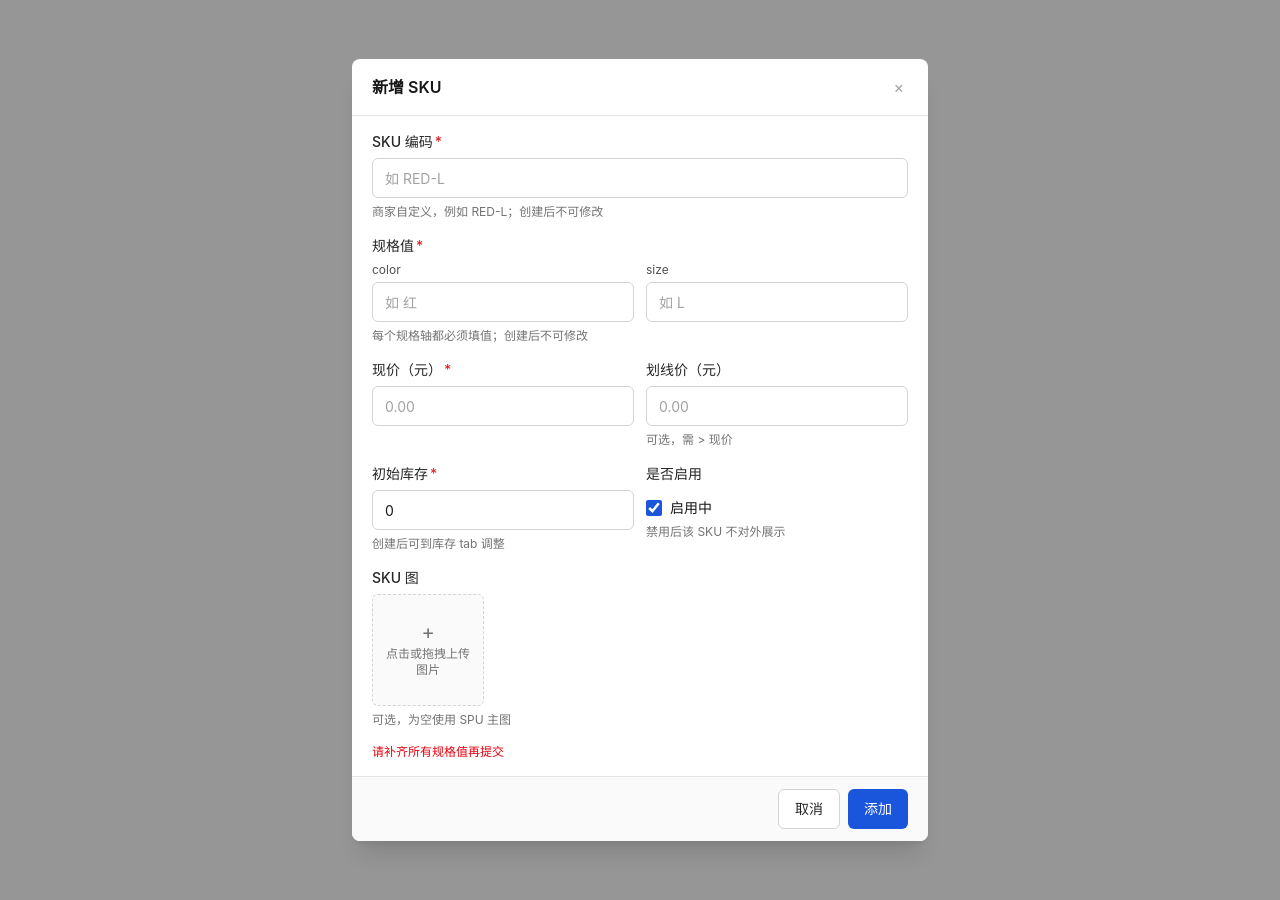
SKUFormModal - 新增 › sku_code 为空时无法提交
The width and height of the screenshot is (1280, 900).
点击"添加"按钮
Click the button "添加" at (878, 809), box left=848, top=789, right=908, bottom=829
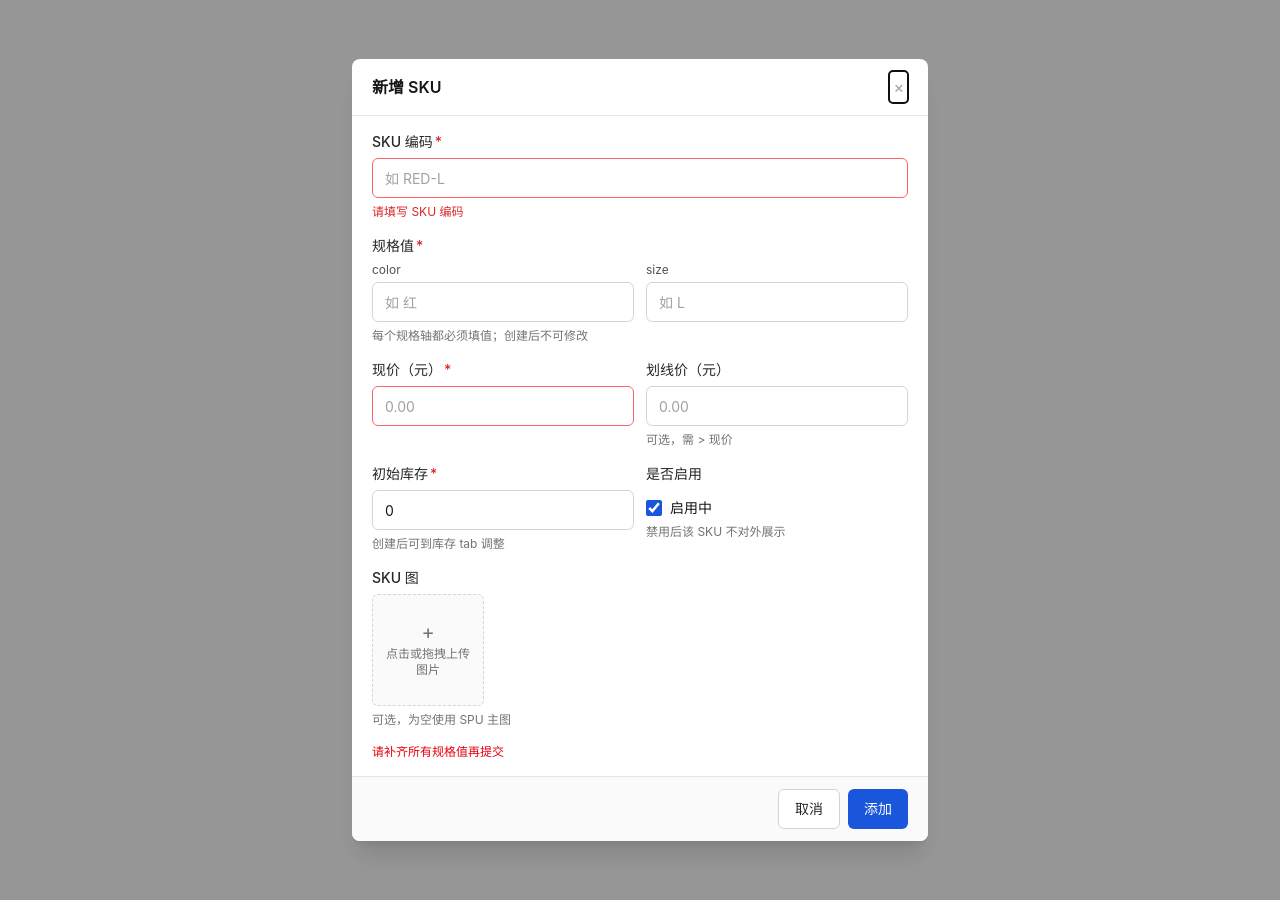
Expected: the text "请填写 SKU 编码" is shown, left=372, top=204, right=464, bottom=219
